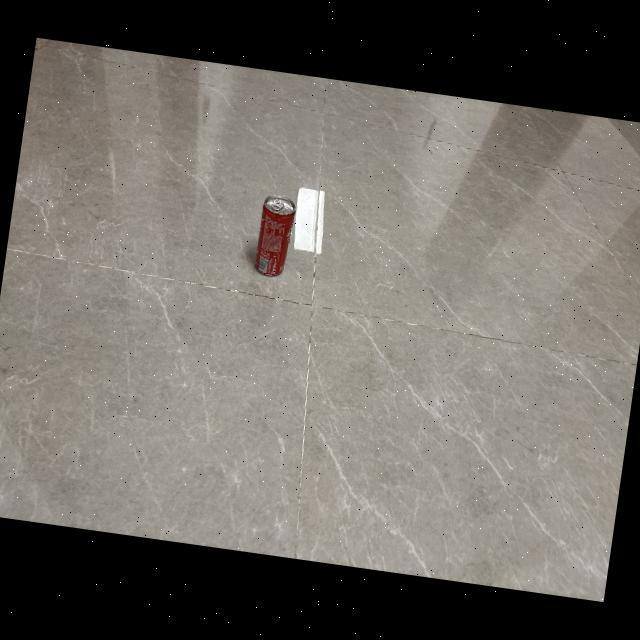Cola: (248, 190, 304, 282)
